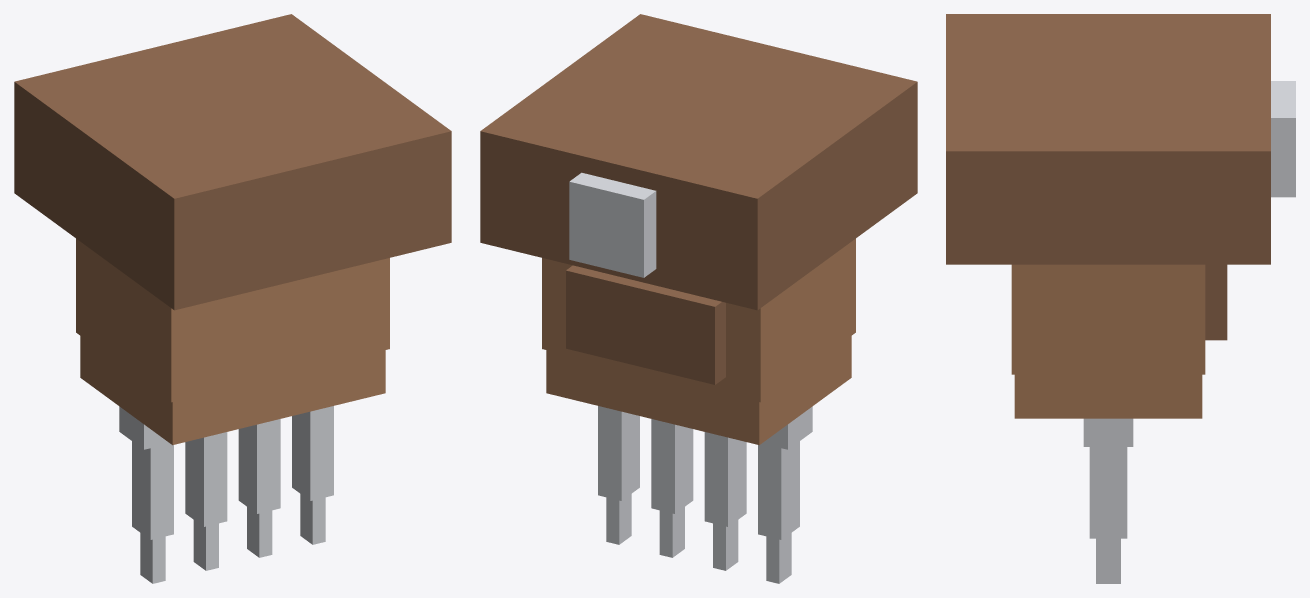
The model's file is luvas_couro_garras.glb.
3 renders of one model, left to right at view 1: azimuth 30°, elevation 25°; view 2: azimuth 150°, elevation 25°; view 3: azimuth 270°, elevation 25°, orthographic.
Parts seen in each view (by area): view 1: luvas_couro_garras; view 2: luvas_couro_garras; view 3: luvas_couro_garras.
Boxes of the visible parts, box(x1,y1,x2,y2) form: luvas_couro_garras: box(14, 14, 451, 583); luvas_couro_garras: box(480, 14, 917, 583); luvas_couro_garras: box(946, 14, 1295, 583).
Size of the model in its own units: 0.26 by 0.405 by 0.28.
